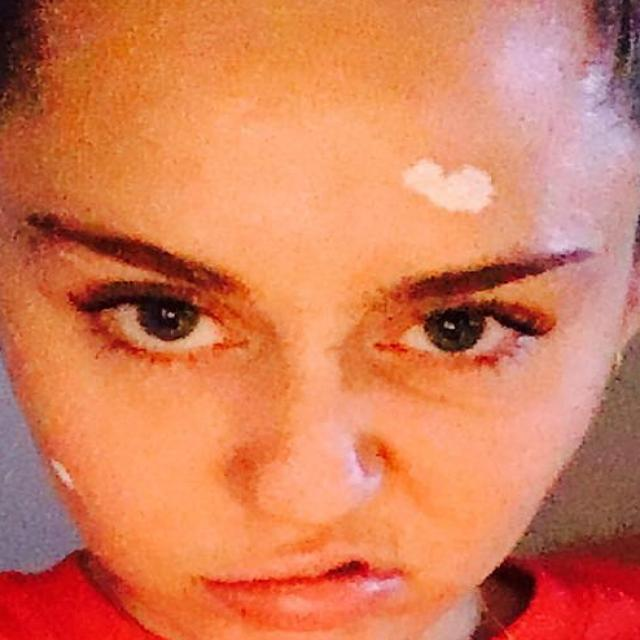blackheads: (398, 154, 499, 213)
